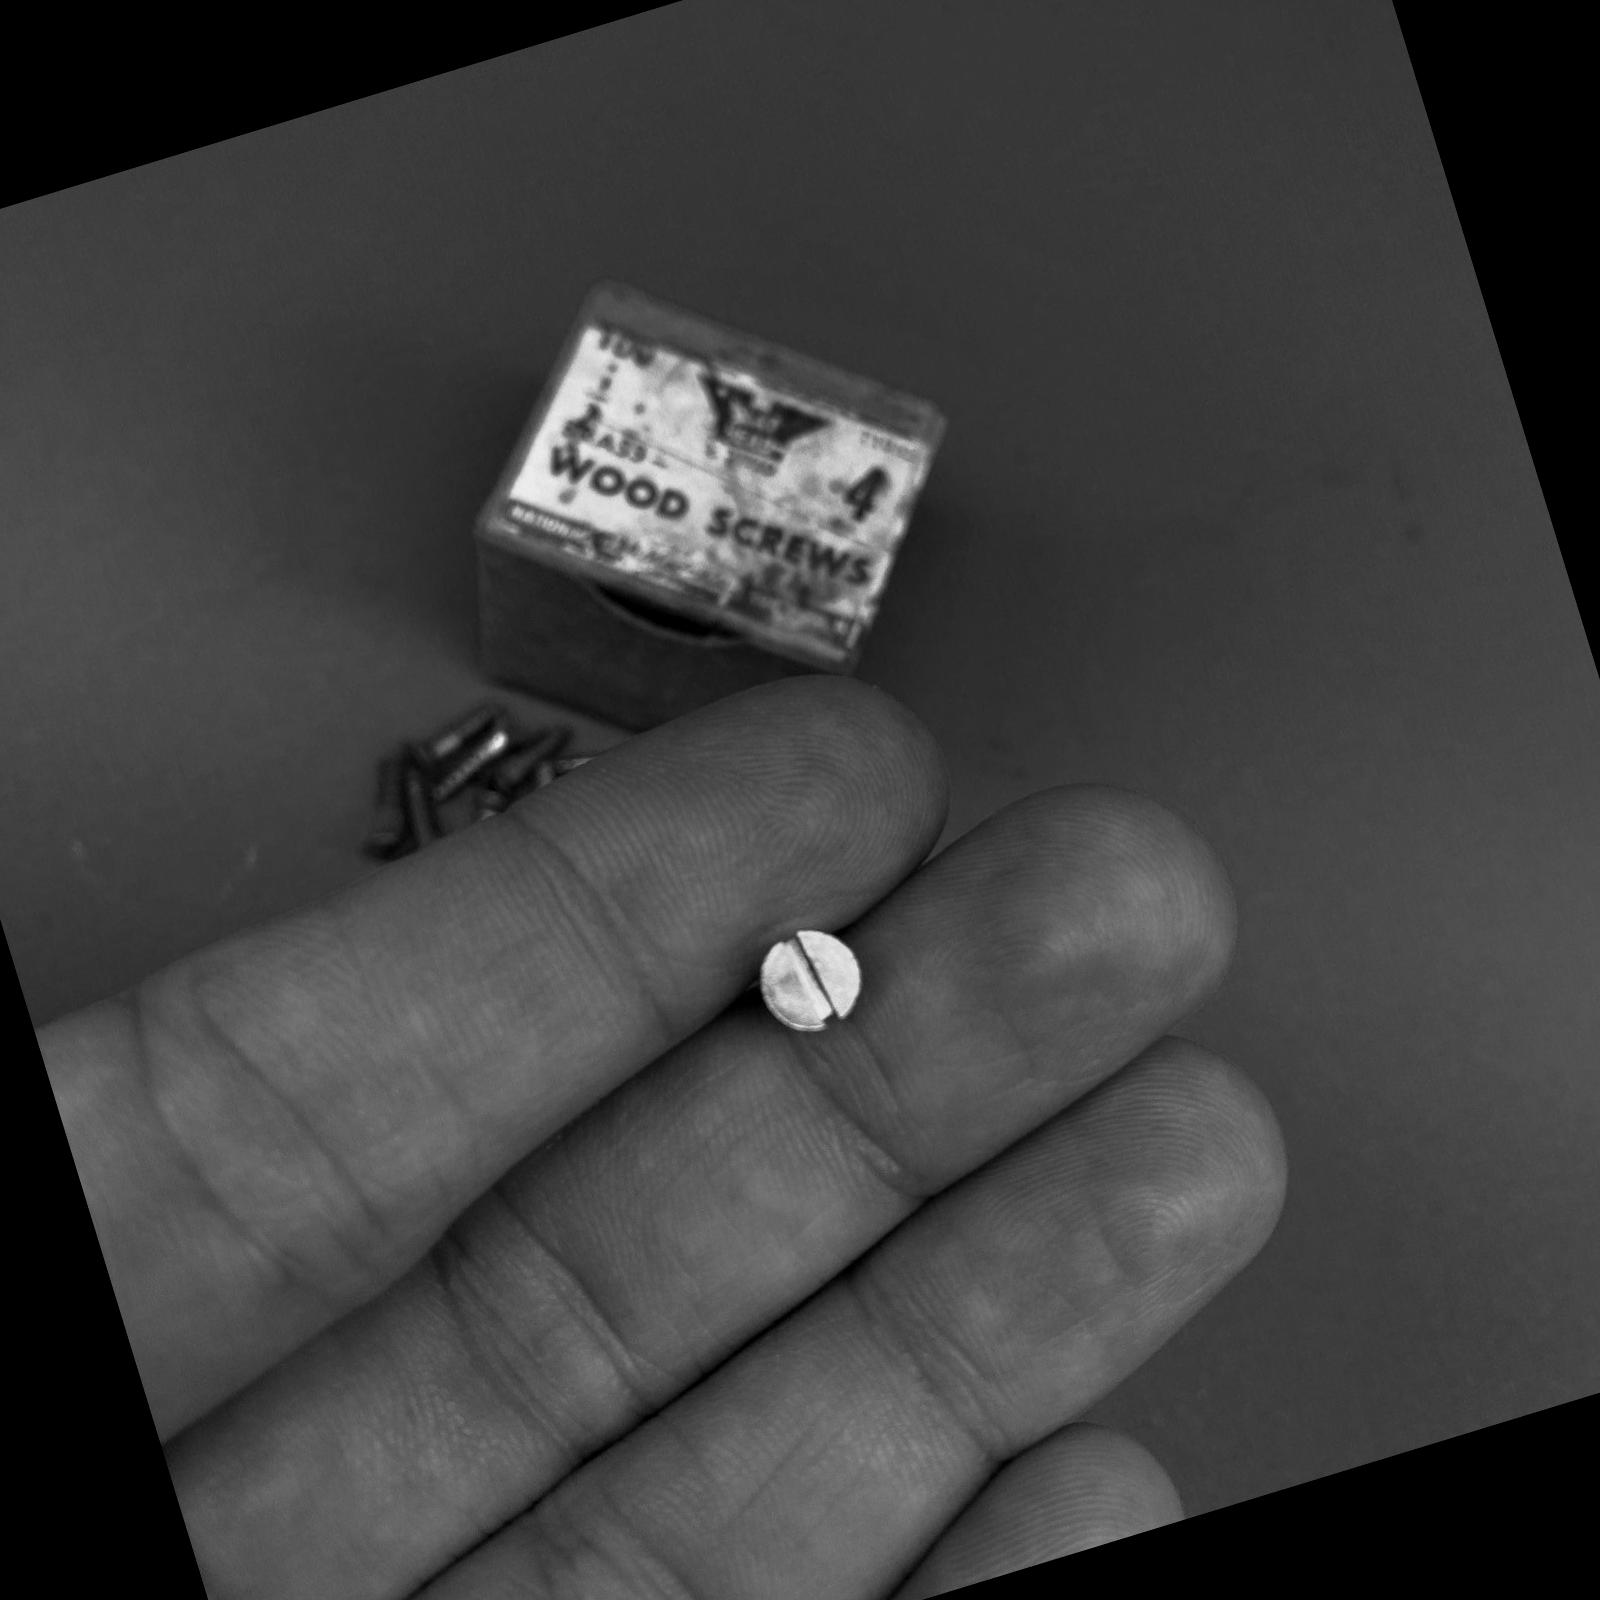screw: (736, 897, 878, 1053)
